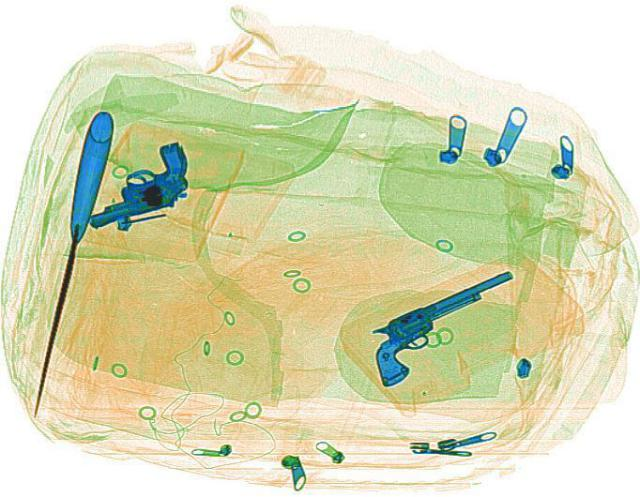Gun: (341, 265, 547, 386), (64, 139, 206, 227)
Knife: (19, 109, 117, 416)
